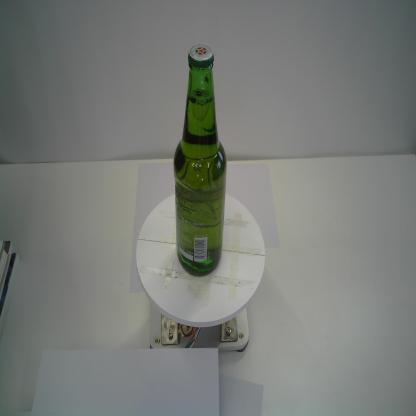Alcohol: (171, 40, 228, 279)
